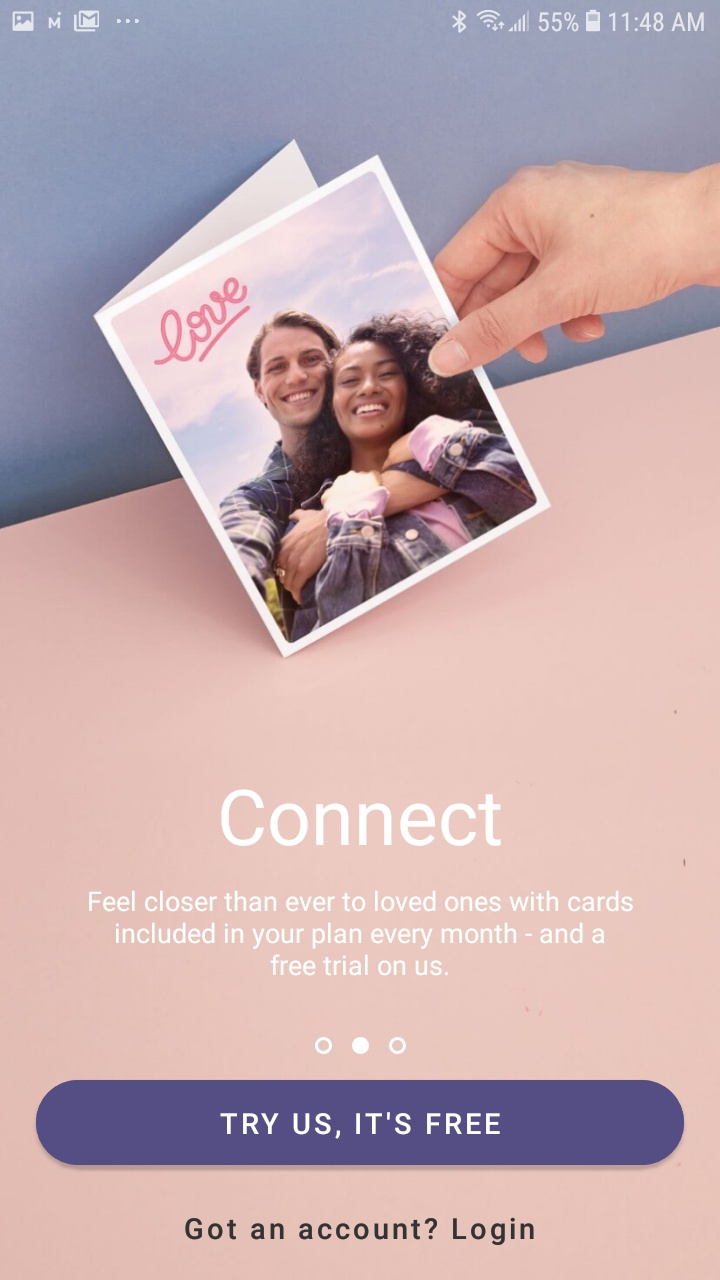BackgroundImage: (1, 36, 720, 1280)
Image: (92, 139, 720, 661)
PageIndicator: (315, 1036, 408, 1055)
Text: (89, 889, 634, 977), (220, 789, 502, 848), (185, 1217, 535, 1246)
TextButton: (36, 1080, 685, 1166)
UpperTaskBar: (1, 1, 720, 36)
